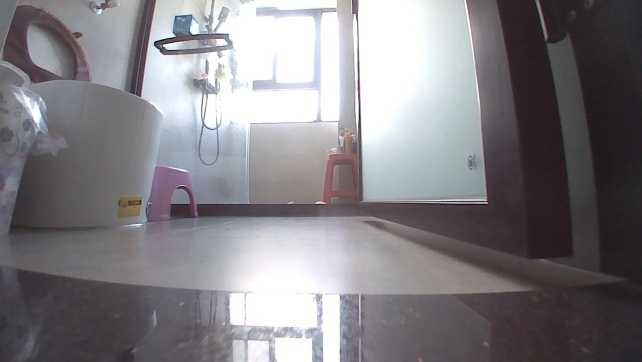plastic_stool: (147, 164, 205, 221), (317, 152, 360, 202)
toilet: (13, 76, 164, 226)
